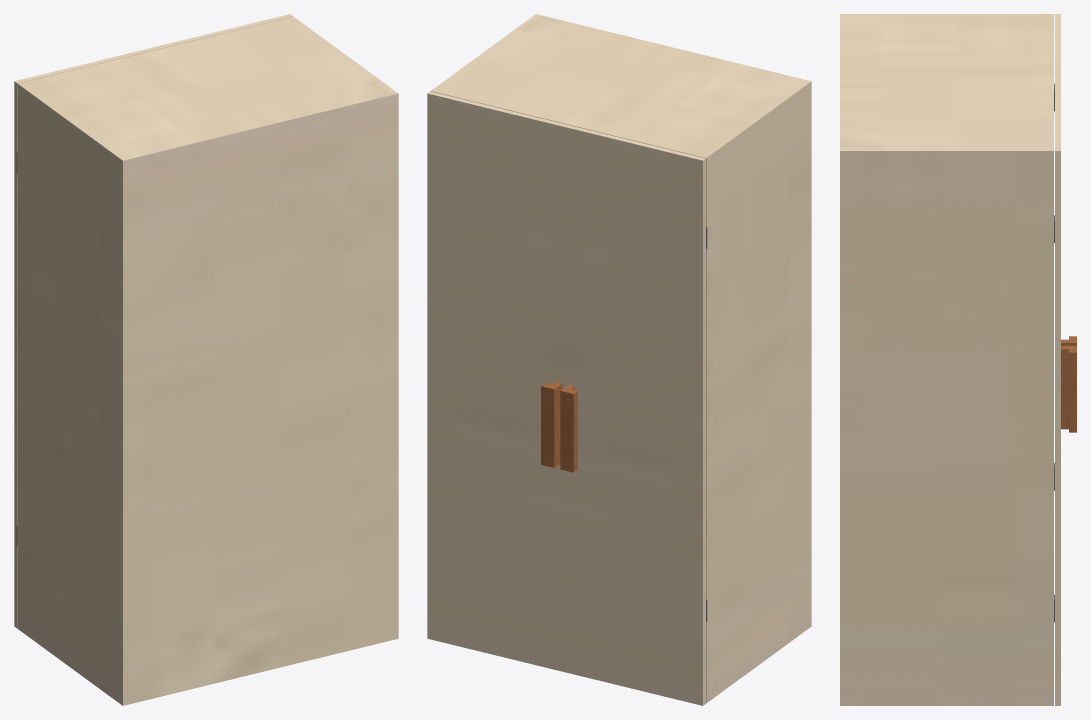
The model's file is Closet21.glb.
3 renders of one model, left to right at view 1: azimuth 30°, elevation 25°; view 2: azimuth 150°, elevation 25°; view 3: azimuth 270°, elevation 25°, orthographic.
Visible parts, largest first — view 1: Closet21_model, Closet21DoorR; view 2: Closet21_model, Closet21DoorR, Closet21DoorL; view 3: Closet21_model, Closet21DoorL, Closet21DoorR.
Part boxes in pixels (x1=…): Closet21_model: x1=16, y1=16, x2=398, y2=705; Closet21DoorR: x1=14, y1=47, x2=154, y2=628; Closet21_model: x1=431, y1=14, x2=811, y2=703; Closet21DoorR: x1=560, y1=125, x2=707, y2=705; Closet21DoorL: x1=427, y1=91, x2=567, y2=672; Closet21_model: x1=840, y1=14, x2=1054, y2=705; Closet21DoorL: x1=1054, y1=82, x2=1076, y2=705; Closet21DoorR: x1=1054, y1=14, x2=1076, y2=490.
Bounding box in the file's own units: 2.98 × 5.6 × 2.17.
Materials: 1 (1 with a texture image).
